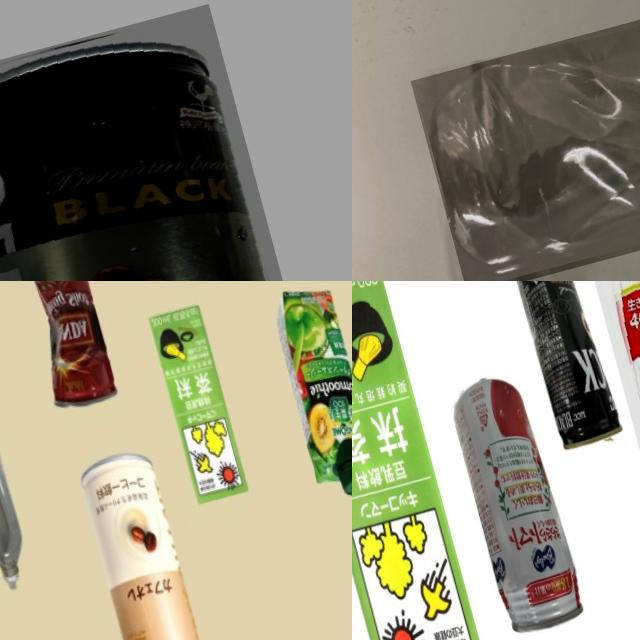Aluminium Foil: (352, 281, 494, 640), (138, 292, 254, 511), (575, 281, 640, 603), (263, 281, 352, 506)
Can: (0, 3, 319, 281), (441, 366, 590, 640), (64, 440, 214, 640), (505, 281, 627, 450), (9, 281, 128, 421)
Transparent Plastic Bottle: (409, 0, 640, 281), (0, 364, 37, 598)
